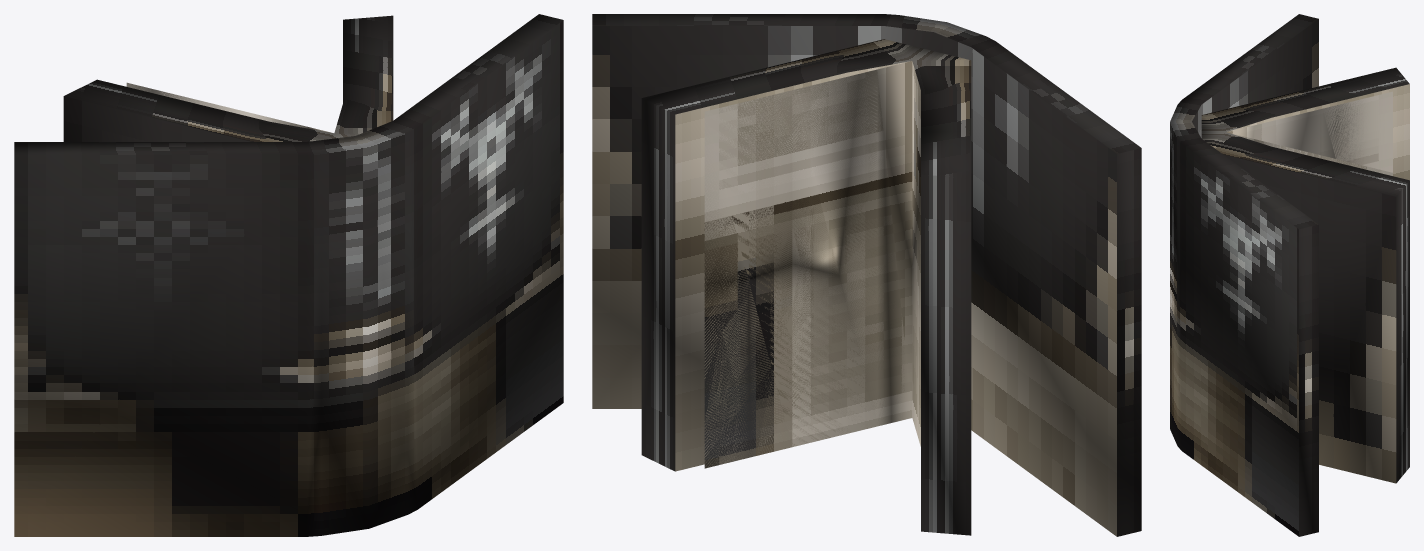
The model's file is bookofretribution.obj.
3 renders of one model, left to right at view 1: azimuth 30°, elevation 25°; view 2: azimuth 150°, elevation 25°; view 3: azimuth 270°, elevation 25°, orthographic. The views are drawn at different scales.
Visible parts, largest first — view 1: mesh; view 2: mesh; view 3: mesh.
Part boxes in pixels (x1,y1,x2,y2): mesh: (14, 14, 563, 536); mesh: (592, 14, 1141, 536); mesh: (1170, 14, 1409, 536).
Bounding box in the file's own units: 55.63 × 37.06 × 26.18.
